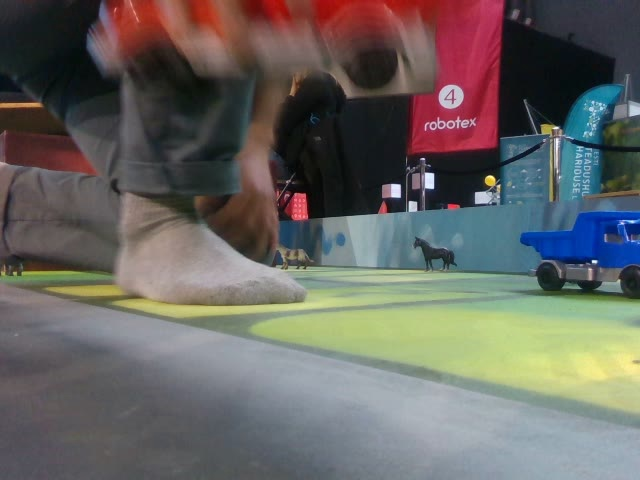toy: (412, 235, 459, 271)
